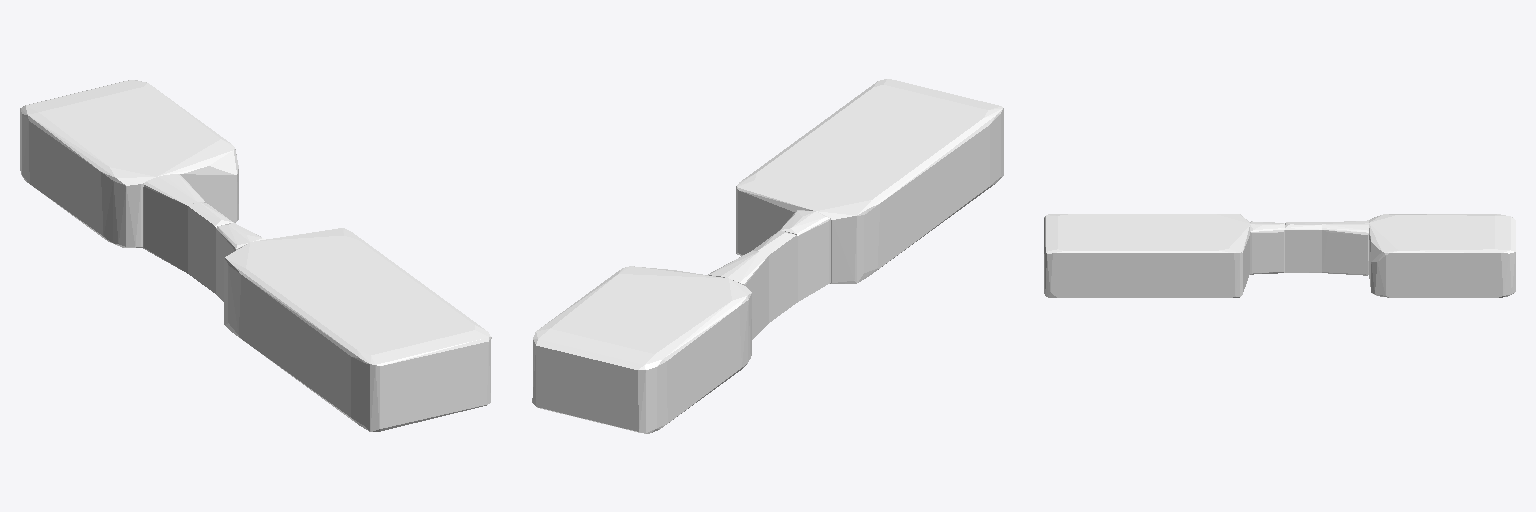
The robot description file, URDF, robot "custom":
<?xml version="1.0"?>
<robot name="custom">
  <material name="Blanc">
    <color rgba="1.0 1.0 1.0 1.0"/>
  </material>
  <link name="base_link">
    <visual>
      <origin xyz="0 0 0" rpy="0 0 0"/>
      <geometry>
        <mesh filename="custom_collision.obj" scale="1 1 1"/>
      </geometry>
      <material name="Blanc"/>
    </visual>
    <collision>
      <origin xyz="0 0 0" rpy="0 0 0"/>
      <geometry>
	 	     <mesh filename="custom_collision.obj" scale="1 1 1"/>
      </geometry>
    </collision>
    <contact>
      <lateral_friction value="5.0"/>
      <rolling_friction value="0.0001"/>
      <inertia_scaling value="3.0"/>
    </contact>
    <inertial>
      <origin rpy="0 0 0" xyz="0 0 0"/>
       <mass value="0.05"/>
       <inertia ixx="1" ixy="0" ixz="0" iyy="1" iyz="0" izz="1"/>
    </inertial>
  </link>

</robot>

--- Render facts (derived) ---
The picture shows the robot from 3 angles, left to right: view 1: azimuth 30°, elevation 25°; view 2: azimuth 150°, elevation 25°; view 3: azimuth 270°, elevation 25°; orthographic projection.
Model custom with 1 links and 0 joints (none), rooted at base_link, posed all joints at 0.
Visible links, largest first — view 1: base_link; view 2: base_link; view 3: base_link.
Link boxes in pixels (x1,y1,x2,y2): base_link: (20, 80, 491, 431); base_link: (532, 79, 1003, 433); base_link: (1044, 214, 1515, 297).
Bounding box of the posed robot: 0.0505 × 0.2503 × 0.0275 m (x, y, z).
1 mesh visuals loaded from 1 distinct referenced files (1 OBJ).
